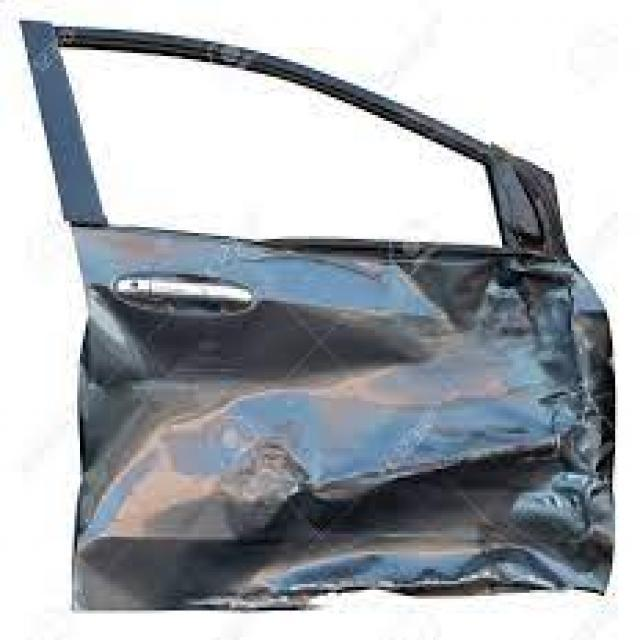damaged-door: (14, 16, 622, 618)
